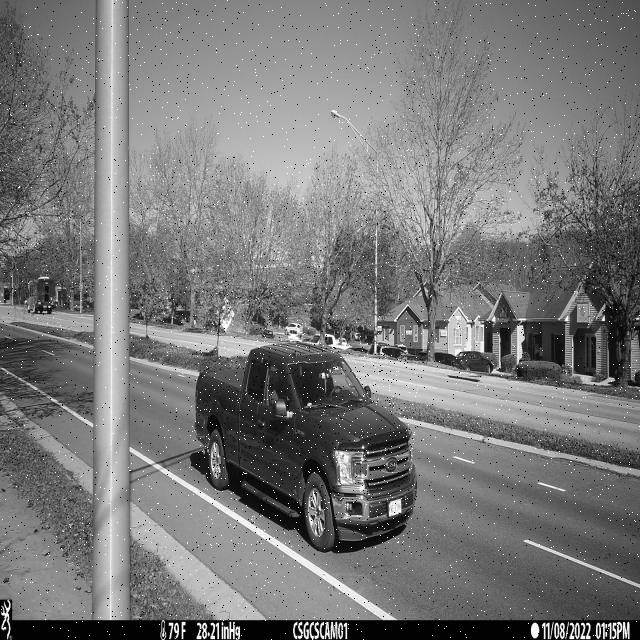Pickup: (195, 343, 417, 553)
